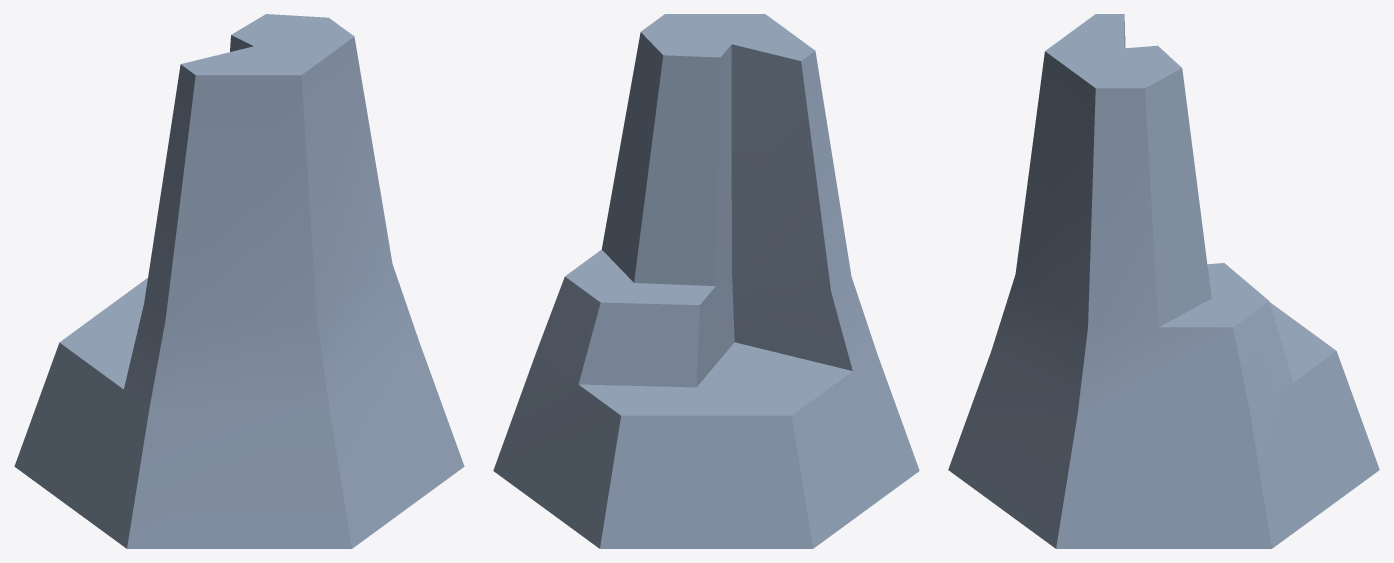
File: rockFormationSmall.fbx
3 views of the same model, side by side, from view 1: azimuth 30°, elevation 25°; view 2: azimuth 150°, elevation 25°; view 3: azimuth 270°, elevation 25° (orthographic). The views are drawn at different scales.
Visible parts, largest first — view 1: rockFormationSmall; view 2: rockFormationSmall; view 3: rockFormationSmall.
Part boxes in pixels (x1,y1,x2,y2): rockFormationSmall: [14, 14, 464, 548]; rockFormationSmall: [493, 14, 919, 548]; rockFormationSmall: [948, 14, 1379, 548].
Bounding box in the file's own units: 5.4 × 6.67 × 6.23.
